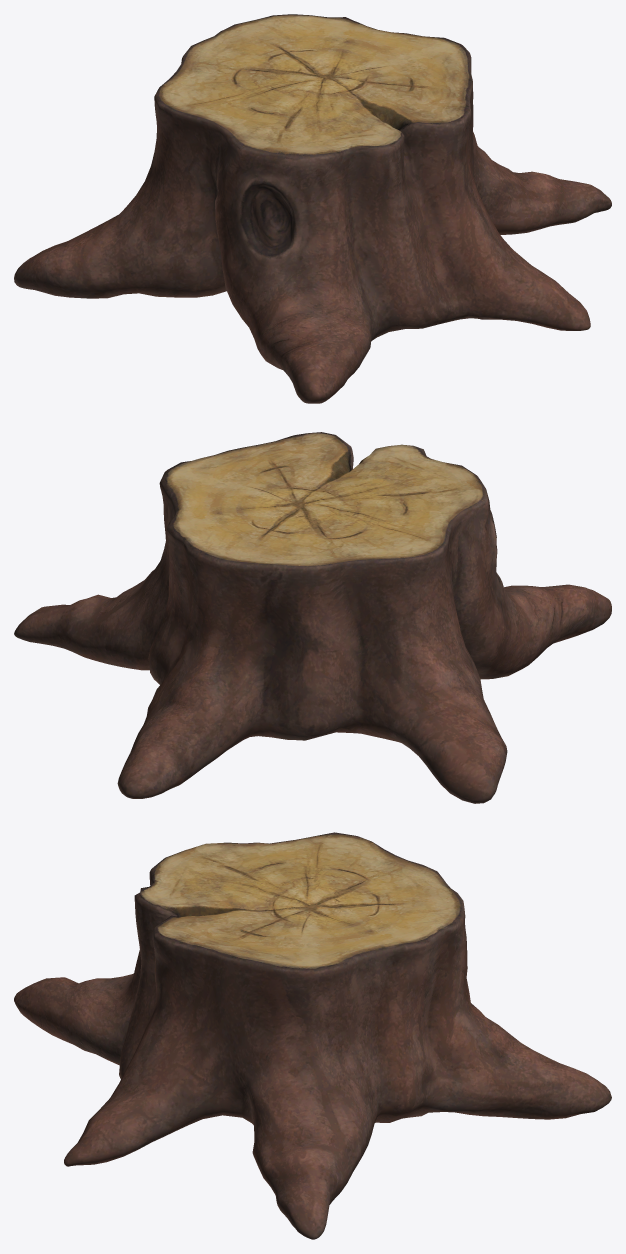
File: stump.fbx
3 views of the same model, one above another, from view 1: azimuth 30°, elevation 25°; view 2: azimuth 150°, elevation 25°; view 3: azimuth 270°, elevation 25° (orthographic).
Parts seen in each view (by area): view 1: node_id177; view 2: node_id177; view 3: node_id177.
Part boxes in pixels (box(x1,y1,x2,y2)): node_id177: box(14, 14, 611, 403); node_id177: box(14, 432, 611, 803); node_id177: box(14, 832, 611, 1239).
Size of the model in its own units: 0.512 by 0.187 by 0.5008.
1 material, 1 textured.
